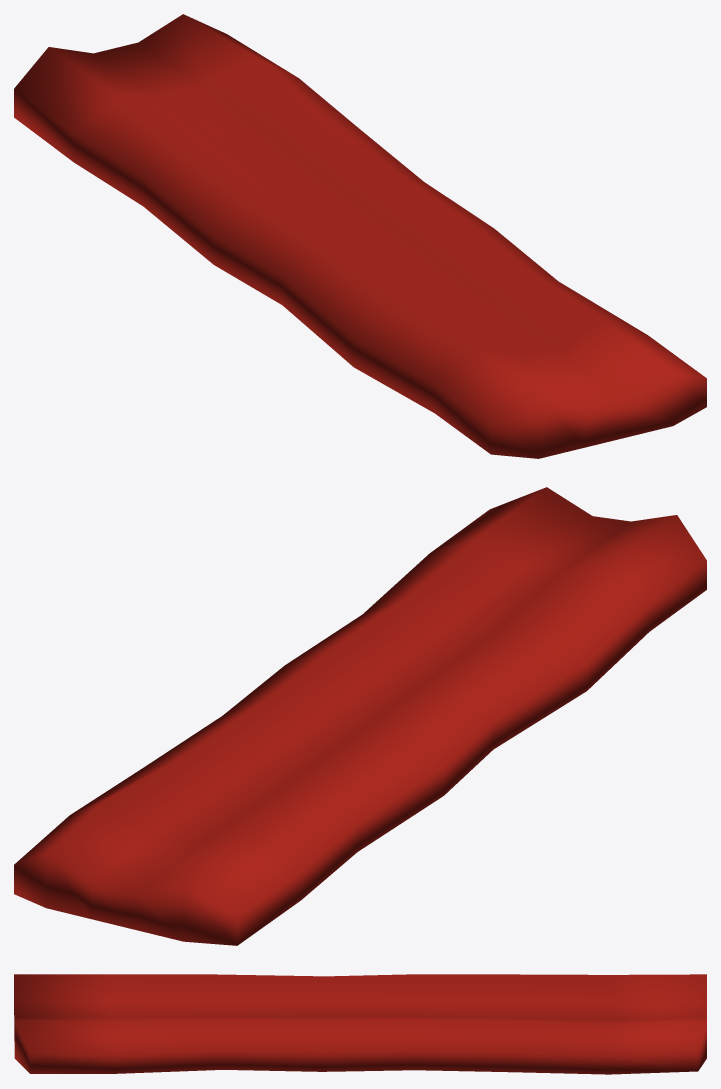
File: road.fbx
3 renders of one model, top to bottom at view 1: azimuth 30°, elevation 25°; view 2: azimuth 150°, elevation 25°; view 3: azimuth 270°, elevation 25°, orthographic. The views are drawn at different scales.
Parts seen in each view (by area): view 1: road; view 2: road; view 3: road.
Part boxes in pixels (left/top/right/bottom): road: left=14, top=14, right=706, bottom=458; road: left=14, top=487, right=706, bottom=945; road: left=14, top=974, right=706, bottom=1074.
Bounding box in the file's own units: 11.59 × 2.79 × 43.56.
